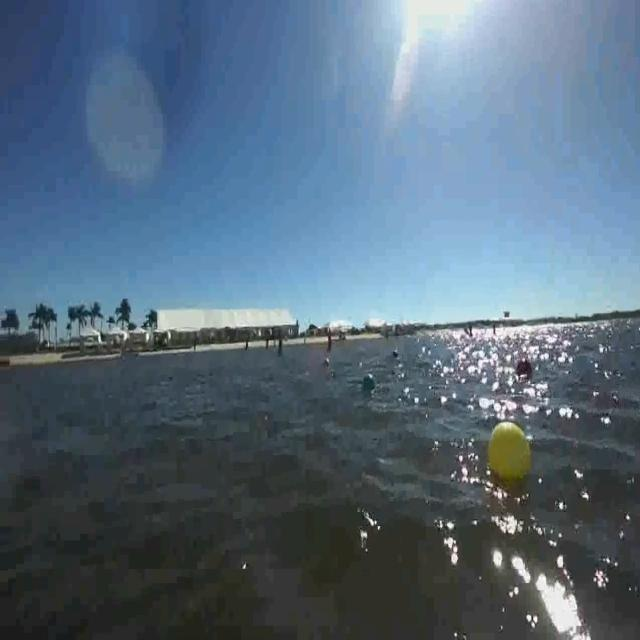yellow-buoy: (489, 422, 532, 484)
